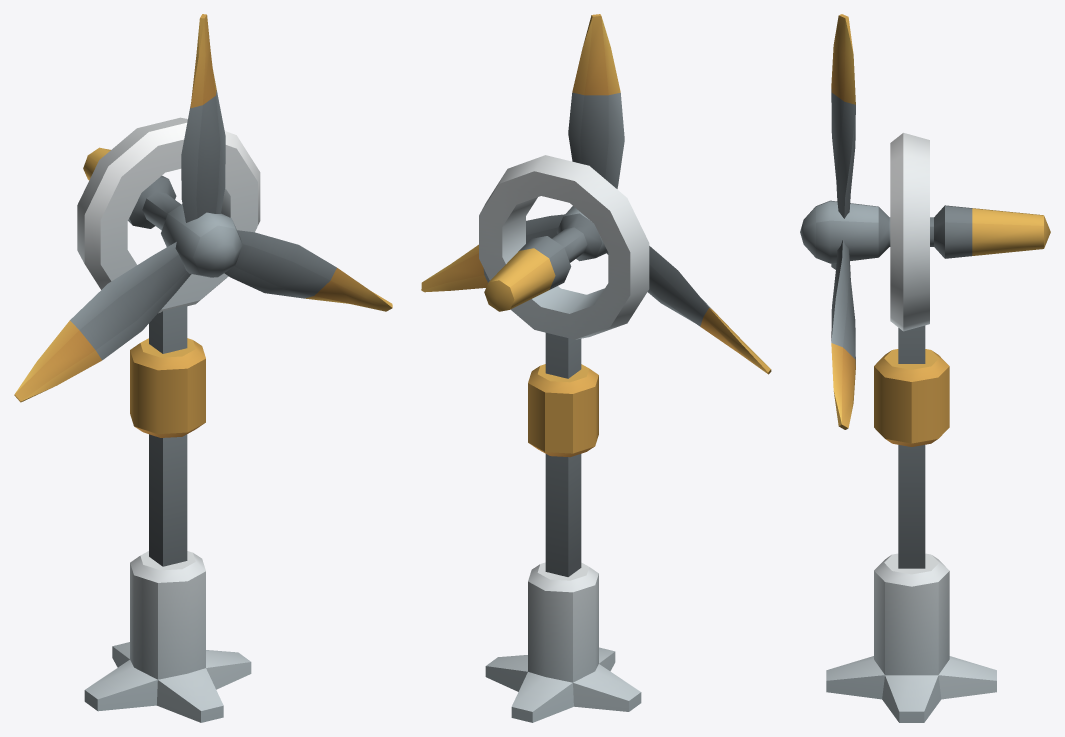
The model's file is turbine.glb.
The picture shows the model from 3 angles, left to right: view 1: azimuth 30°, elevation 25°; view 2: azimuth 150°, elevation 25°; view 3: azimuth 270°, elevation 25°; orthographic projection. The views are drawn at different scales.
Visible parts, largest first — view 1: windturbine_tall_fan, windturbine_tall; view 2: windturbine_tall_fan, windturbine_tall; view 3: windturbine_tall, windturbine_tall_fan.
Boxes of the visible parts, left/top/right/bottom form: windturbine_tall_fan: left=14, top=14, right=392, bottom=402; windturbine_tall: left=84, top=305, right=251, bottom=722; windturbine_tall_fan: left=421, top=14, right=771, bottom=374; windturbine_tall: left=485, top=333, right=641, bottom=722; windturbine_tall: left=826, top=325, right=996, bottom=722; windturbine_tall_fan: left=800, top=14, right=1050, bottom=429.
Bounding box in the file's own units: 1.67 × 2.95 × 0.9999.
Materials: 1 (1 with a texture image).
